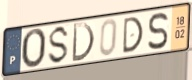0: (98, 17, 119, 59)
D: (70, 21, 96, 64), (121, 15, 145, 55)
O: (20, 27, 48, 70)
S: (46, 24, 71, 66), (146, 11, 170, 52)
